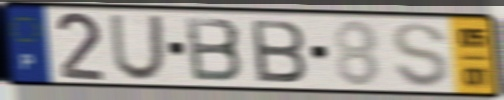2: (55, 10, 106, 83)
8: (334, 17, 382, 89)
B: (182, 14, 246, 84), (248, 17, 310, 85)
S: (390, 20, 452, 90)
U: (107, 13, 167, 83)
